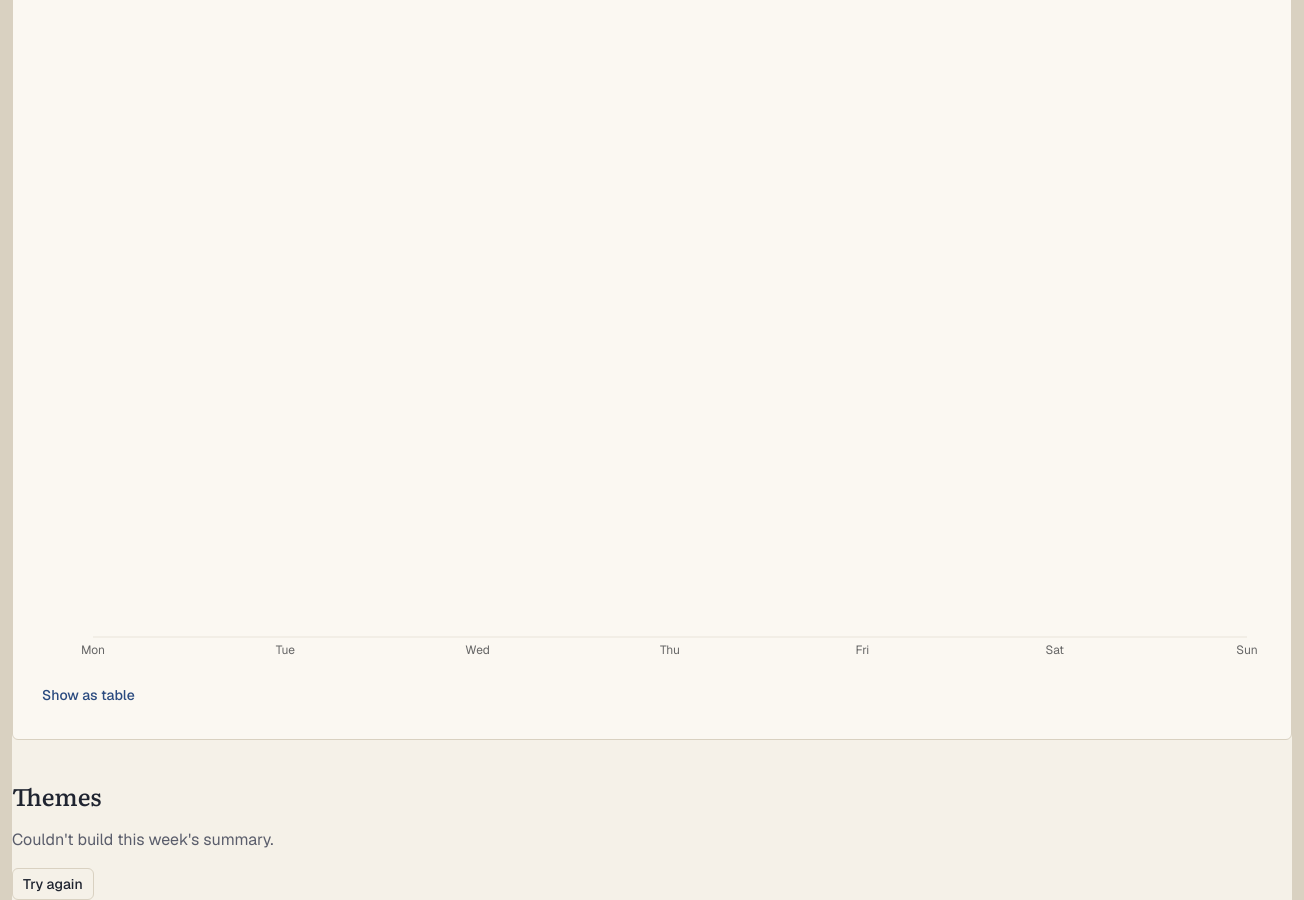
Test case: WeekView › recovers from an error with Try again
(page scrolled)
Expected: the text "Couldn't build this week's summary." is shown, [12,828,274,852]
Click the button "Try again". click: (53, 884)
box: [12,868,94,899]
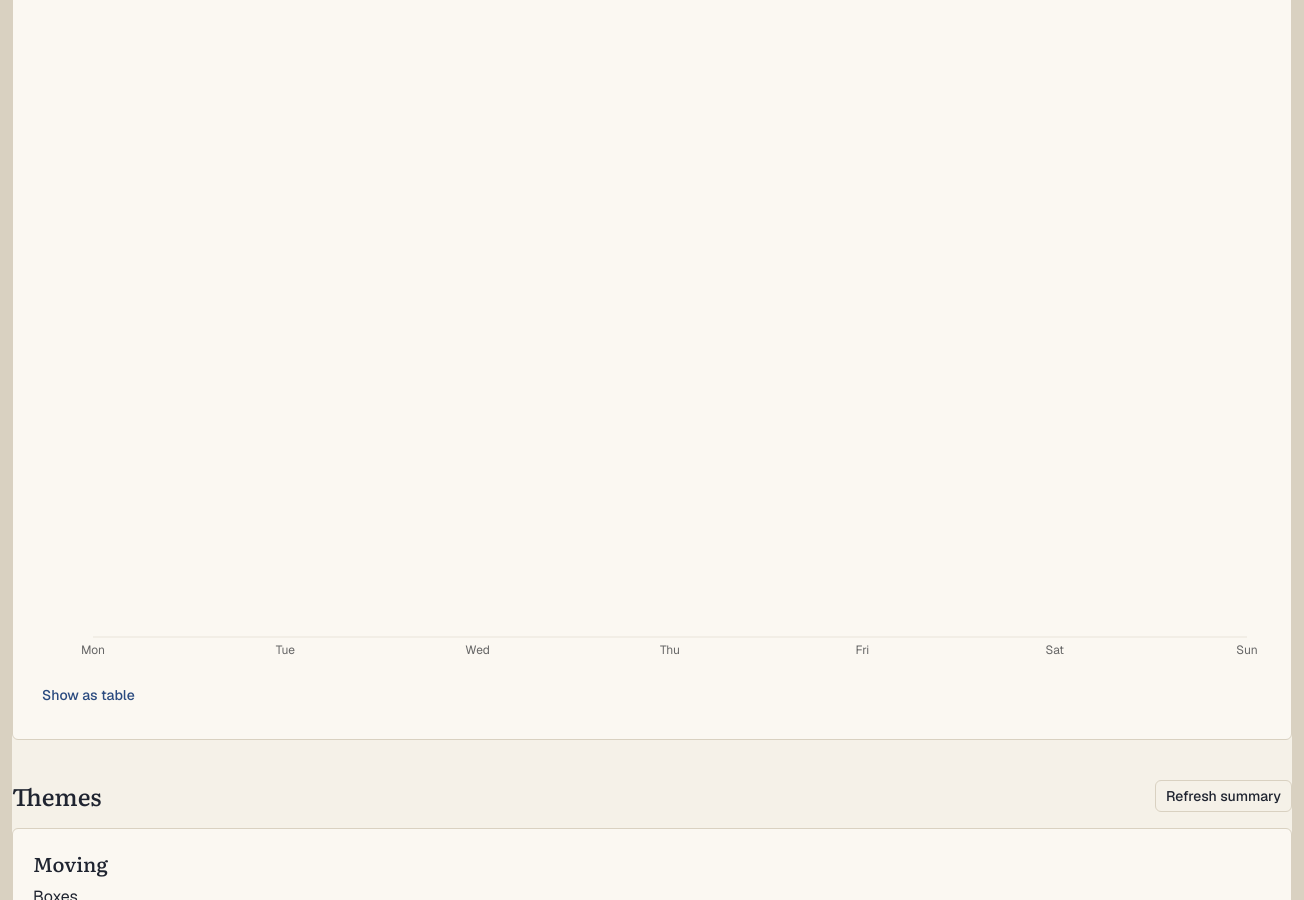
Expected: the heading "Moving" is shown, [33,848,108,878]
